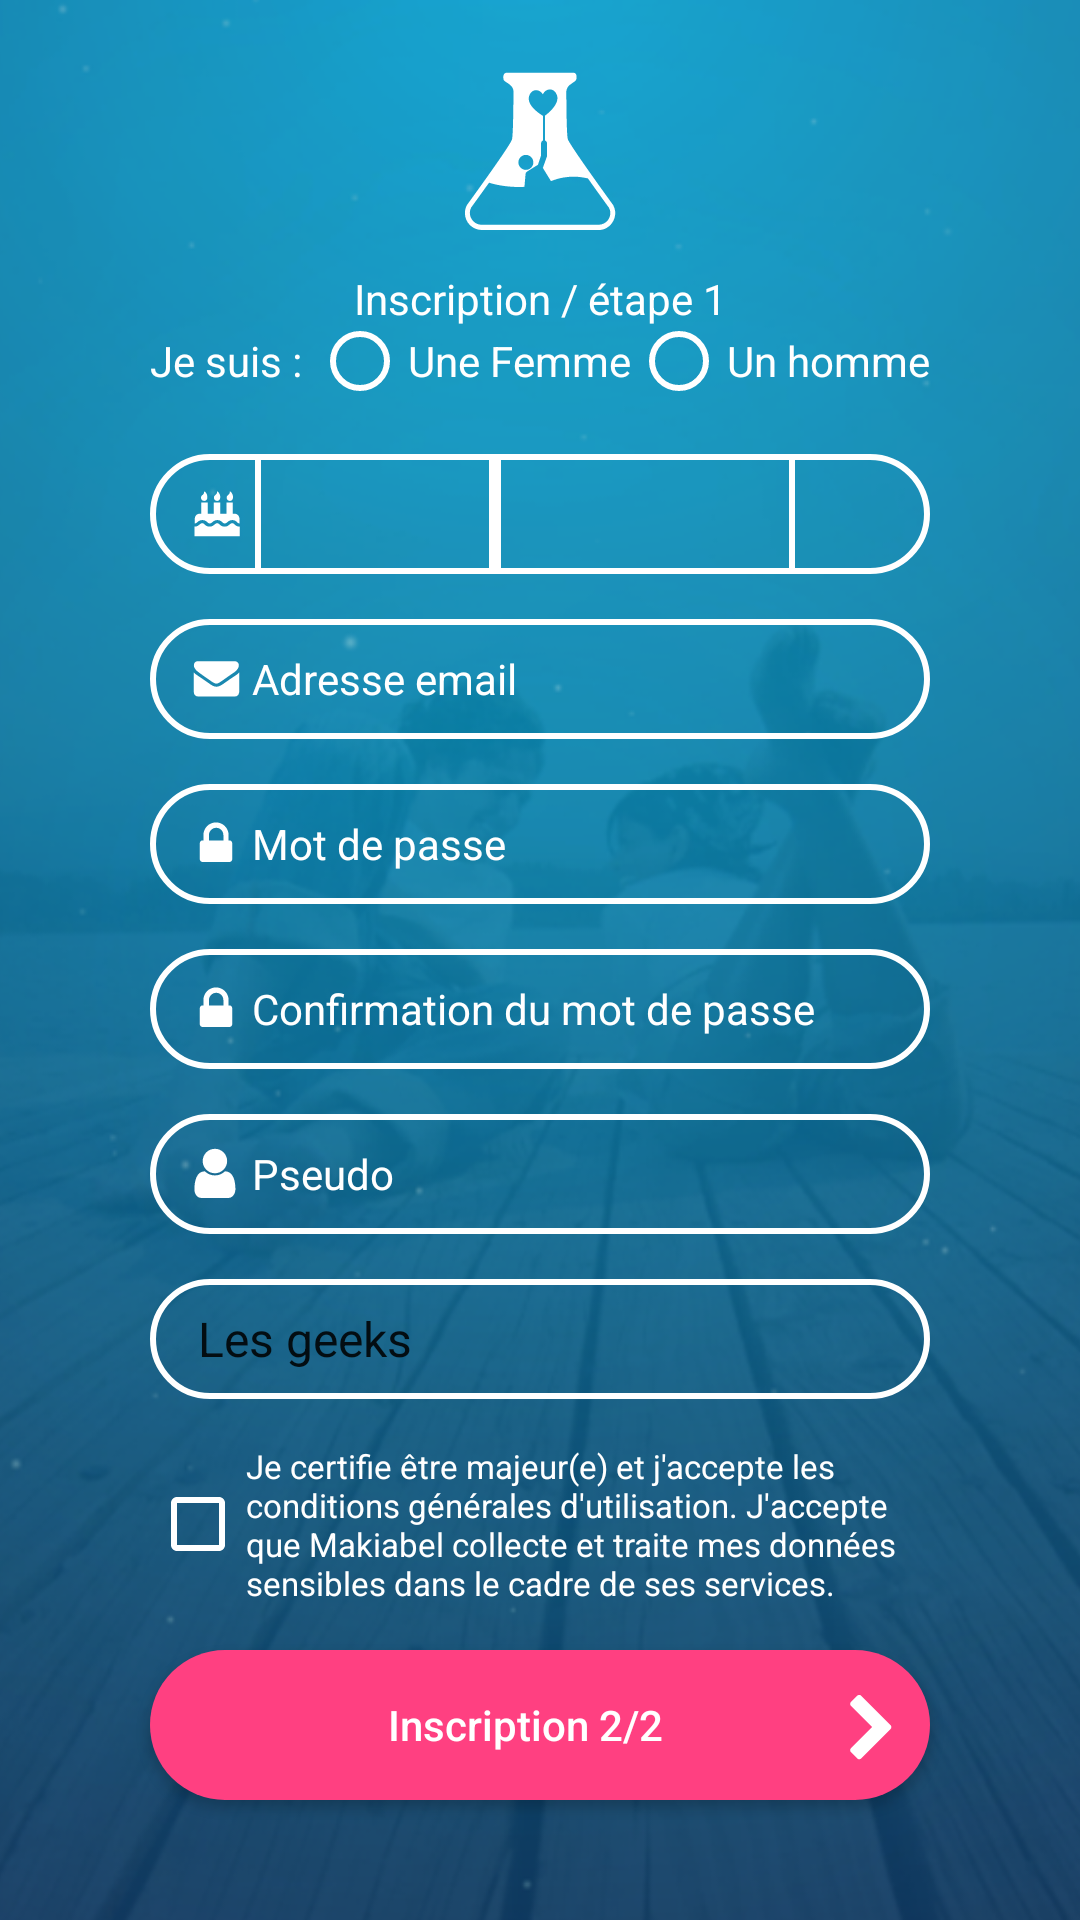

Icon click points for this 1080×1920 phone screenshot, format (x=x, y=y):
birthday: (x=217, y=514)
